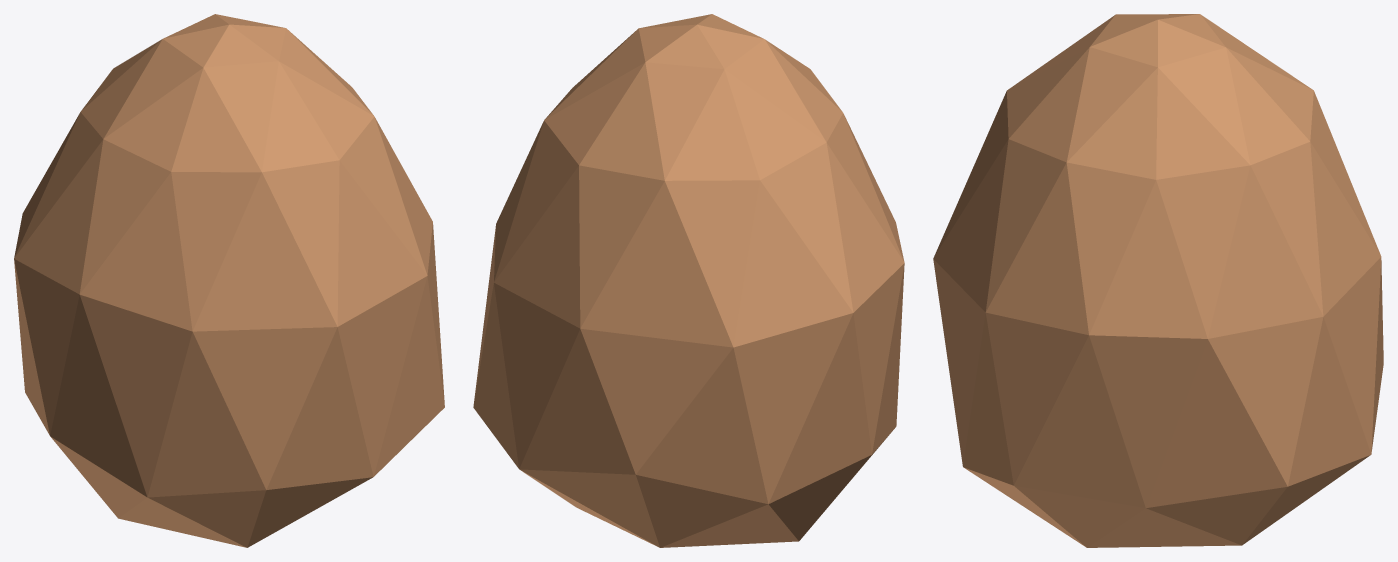
The model's file is Egg.fbx.
The picture shows the model from 3 angles, left to right: view 1: azimuth 30°, elevation 25°; view 2: azimuth 150°, elevation 25°; view 3: azimuth 270°, elevation 25°; orthographic projection. The views are drawn at different scales.
Parts seen in each view (by area): view 1: Icosphere; view 2: Icosphere; view 3: Icosphere.
Part boxes in pixels (x1=…): Icosphere: x1=14, y1=14, x2=444, y2=547; Icosphere: x1=473, y1=14, x2=904, y2=547; Icosphere: x1=933, y1=14, x2=1383, y2=547.
Bounding box in the file's own units: 187 × 249 × 194.
